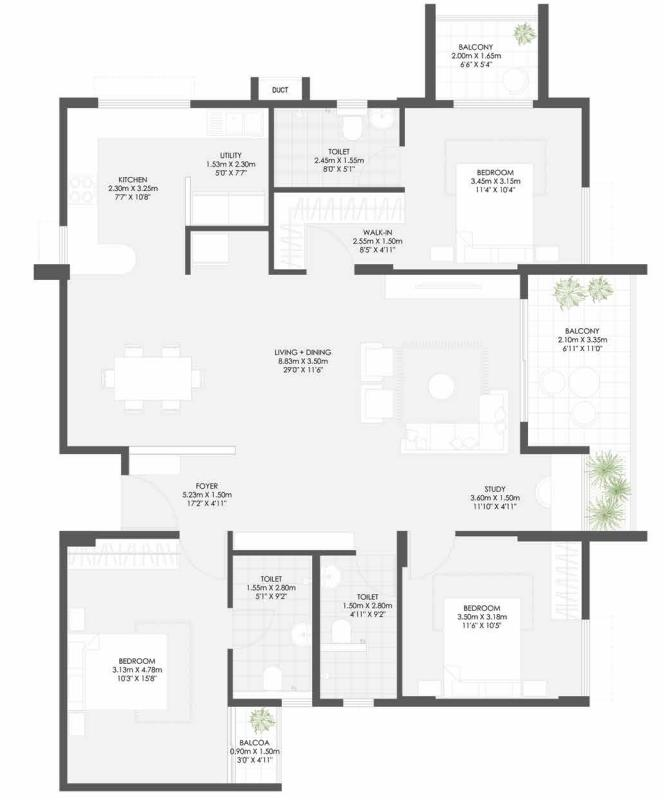Balcony: (528, 271, 632, 447), (434, 9, 536, 101), (586, 447, 631, 531)
Bed: (452, 162, 534, 270), (67, 635, 175, 710), (445, 594, 522, 698)
Bedroom: (67, 551, 227, 781), (399, 541, 587, 697), (406, 109, 577, 271)
Dining Room: (65, 271, 258, 450)
Dining table: (84, 335, 216, 432)
Foyer: (122, 455, 397, 545)
Kitchen: (70, 109, 185, 270)
Living Room: (259, 274, 523, 448)
Sofa: (405, 415, 510, 446), (362, 344, 394, 421), (482, 389, 510, 445)
Wardrobe: (275, 192, 404, 225), (72, 545, 180, 574), (547, 540, 584, 618), (277, 200, 312, 269)
balcoa: (231, 708, 279, 782)
commode: (263, 665, 282, 694), (331, 620, 353, 643), (344, 116, 361, 141)
door: (123, 475, 180, 530), (402, 533, 456, 577), (306, 225, 356, 271), (354, 554, 398, 597), (183, 537, 227, 579)
duct: (256, 78, 303, 101)
fridge: (190, 231, 229, 264)
kitchen-slab: (70, 107, 270, 140), (74, 111, 100, 266), (77, 244, 133, 270)
sink: (205, 108, 264, 135), (369, 106, 398, 134), (319, 566, 343, 589), (293, 624, 312, 645)
stove: (69, 177, 98, 205)
study: (398, 451, 587, 535)
toilet: (231, 552, 315, 701), (317, 553, 397, 699), (273, 107, 404, 187)
tv: (385, 272, 517, 301)
utility: (188, 109, 269, 225)
walkin: (276, 197, 404, 272)
washing-machine: (192, 191, 267, 225)
